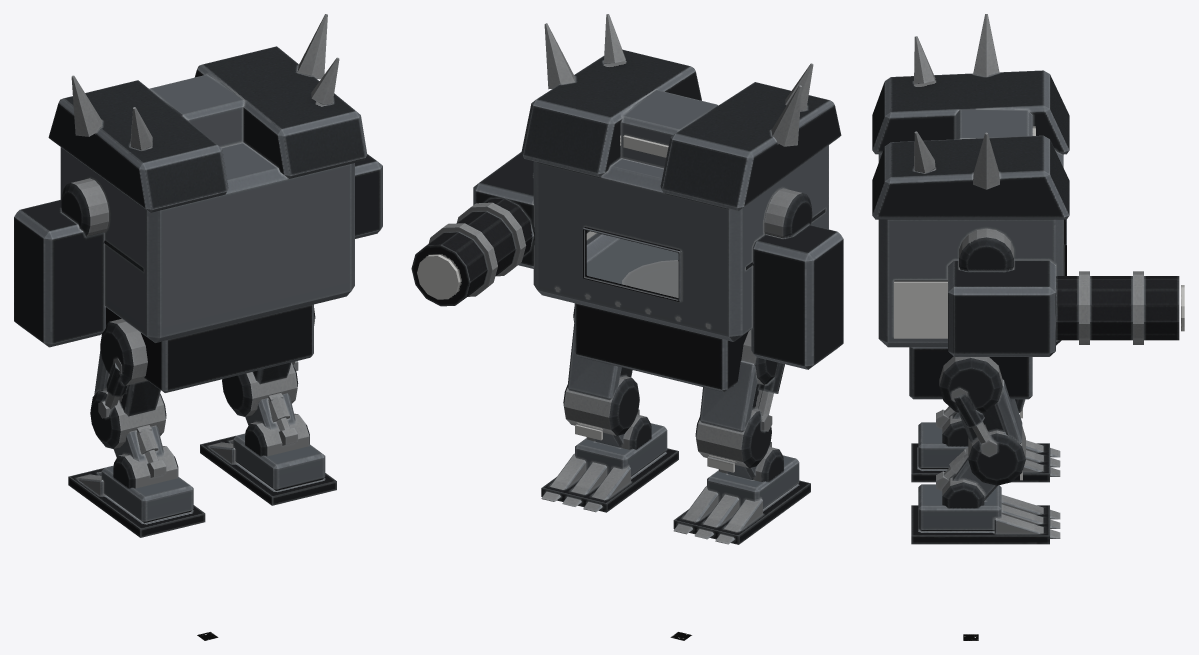
Rendered from chs_thug.fbx.
3 views of the same model, side by side, from view 1: azimuth 30°, elevation 25°; view 2: azimuth 150°, elevation 25°; view 3: azimuth 270°, elevation 25° (orthographic). The views are drawn at different scales.
Parts seen in each view (by area): view 1: torso_bar, base_bar, thighL_bar, footL_bar, footR_bar, shinL_bar, shinR_bar, thighR_bar; view 2: torso_bar, base_bar, thighL_bar, footR_bar, footL_bar, thighR_bar, torso_glow_weapon_bar, shinR_bar, shinL_bar; view 3: torso_bar, thighR_bar, footR_bar, footL_bar, base_bar, torso_glow_power_bar, shinR_bar, shinL_bar.
Part boxes in pixels (<box>): torso_bar: <box>14,14,382,347</box>; base_bar: <box>101,304,313,392</box>; thighL_bar: <box>90,319,166,448</box>; footL_bar: <box>68,465,205,537</box>; footR_bar: <box>200,433,336,505</box>; shinL_bar: <box>113,425,178,488</box>; shinR_bar: <box>245,393,309,456</box>; thighR_bar: <box>222,308,315,416</box>; torso_bar: <box>411,14,843,369</box>; base_bar: <box>574,260,748,391</box>; thighL_bar: <box>695,329,784,467</box>; footR_bar: <box>541,423,678,512</box>; footL_bar: <box>673,455,810,544</box>; thighR_bar: <box>563,307,639,435</box>; torso_glow_weapon_bar: <box>417,254,460,299</box>; shinR_bar: <box>586,409,651,449</box>; shinL_bar: <box>718,442,783,482</box>; torso_bar: <box>872,14,1179,356</box>; thighR_bar: <box>939,356,1025,485</box>; footR_bar: <box>911,484,1060,544</box>; footL_bar: <box>911,422,1060,482</box>; base_bar: <box>909,347,1032,399</box>; torso_glow_power_bar: <box>894,281,947,338</box>; shinR_bar: <box>936,447,997,508</box>; shinL_bar: <box>936,406,968,446</box>.
Size of the model in its own units: 475 by 807 by 405.
2 materials, 2 textured.
